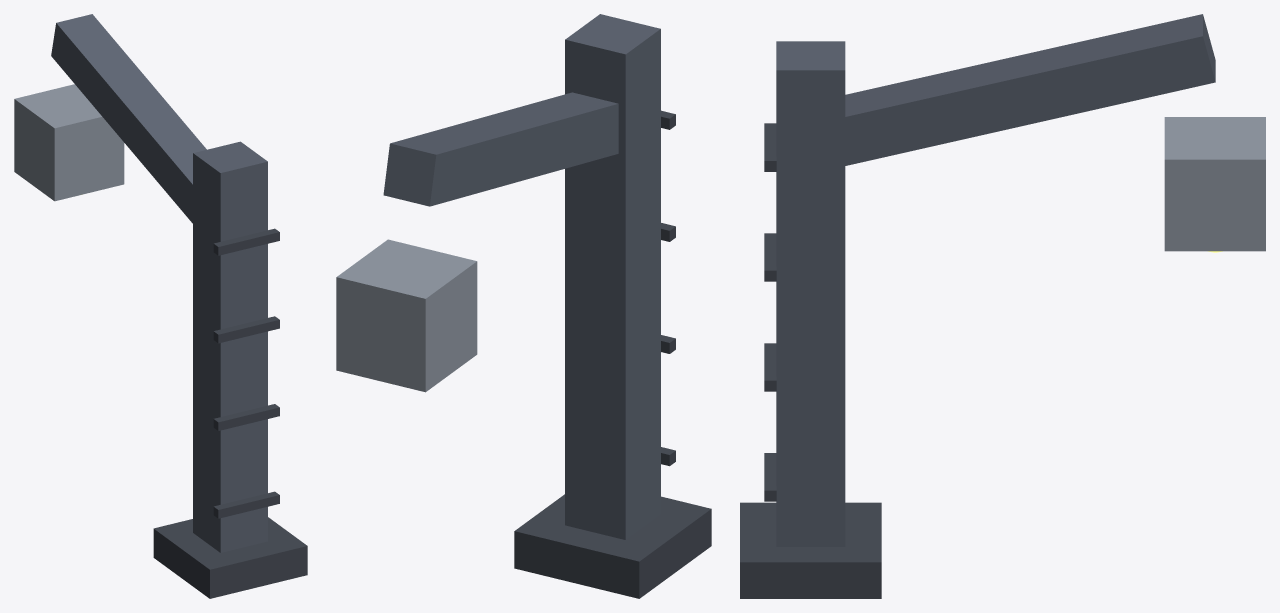
Rendered from prop_conveyor_arm.glb.
The picture shows the model from 3 angles, left to right: view 1: azimuth 30°, elevation 25°; view 2: azimuth 150°, elevation 25°; view 3: azimuth 270°, elevation 25°; orthographic projection. The views are drawn at different scales.
Visible parts, largest first — view 1: prop_conveyor_arm; view 2: prop_conveyor_arm; view 3: prop_conveyor_arm.
Part boxes in pixels (bbox=[...]): prop_conveyor_arm: bbox=[14, 14, 307, 598]; prop_conveyor_arm: bbox=[336, 14, 711, 598]; prop_conveyor_arm: bbox=[740, 14, 1265, 598].
Bounding box in the file's own units: 0.7 × 2.97 × 2.6.
